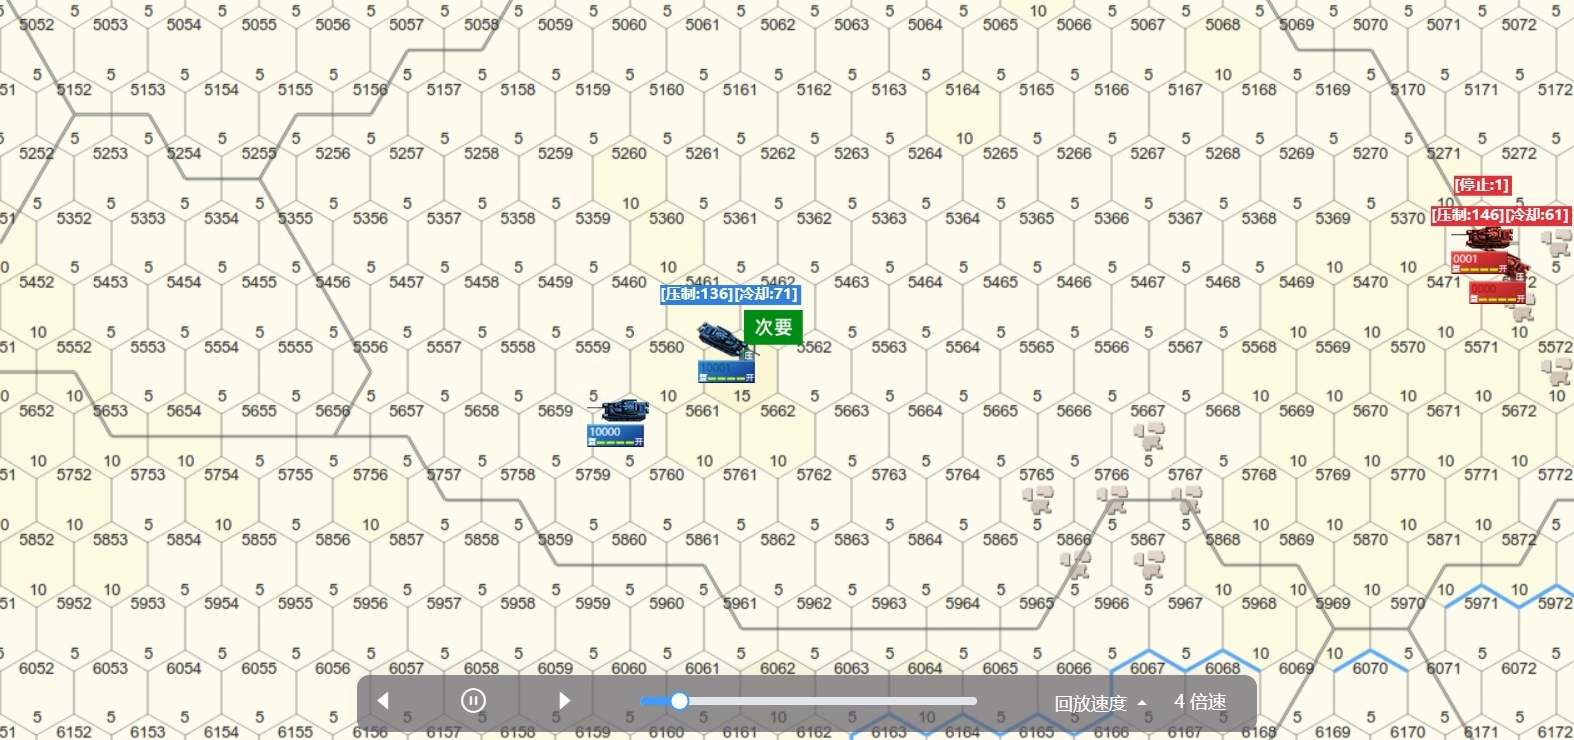blue_tank: (693, 323, 760, 391), (589, 399, 651, 451)
red_tank: (1450, 222, 1515, 271), (1478, 263, 1531, 310)
